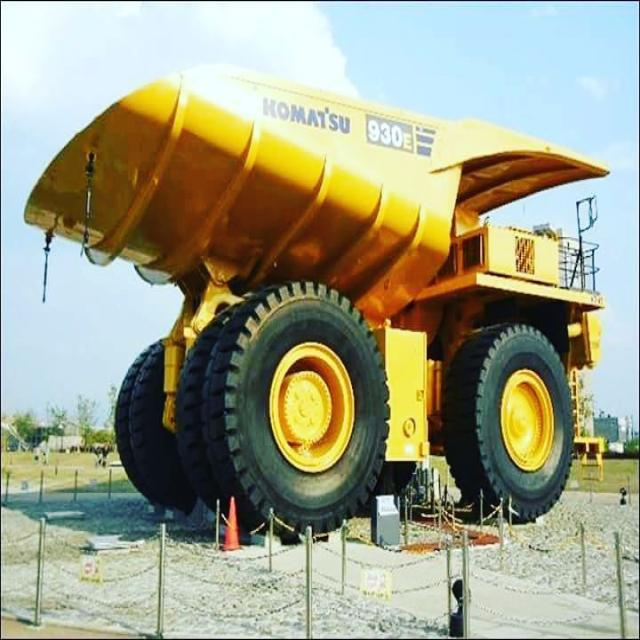dump_truck: (24, 50, 615, 549)
